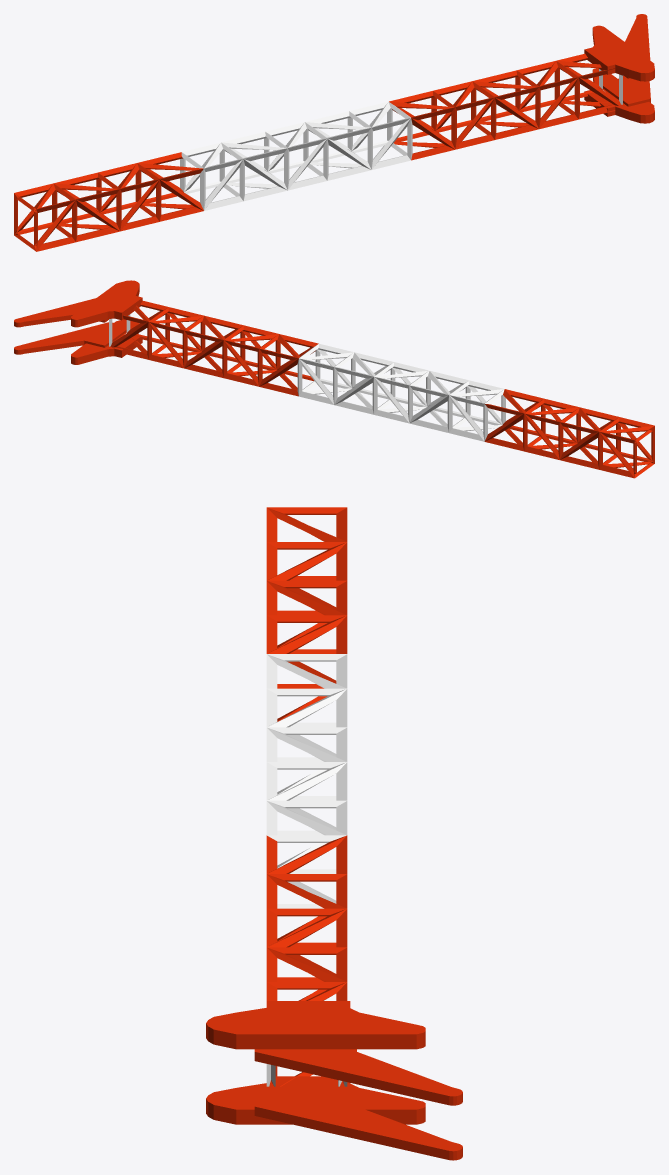
The model's file is crane_arm2.glb.
3 views of the same model, one above another, from view 1: azimuth 30°, elevation 25°; view 2: azimuth 150°, elevation 25°; view 3: azimuth 270°, elevation 25° (orthographic). The views are drawn at different scales.
Visible parts, largest first — view 1: SEP_beam2; view 2: SEP_beam2; view 3: SEP_beam2.
Boxes of the visible parts, <box> form: SEP_beam2: <box>14,14,654,251</box>; SEP_beam2: <box>14,280,654,478</box>; SEP_beam2: <box>206,507,462,1160</box>.
Size of the model in its own units: 77.33 by 5.63 by 14.49.
